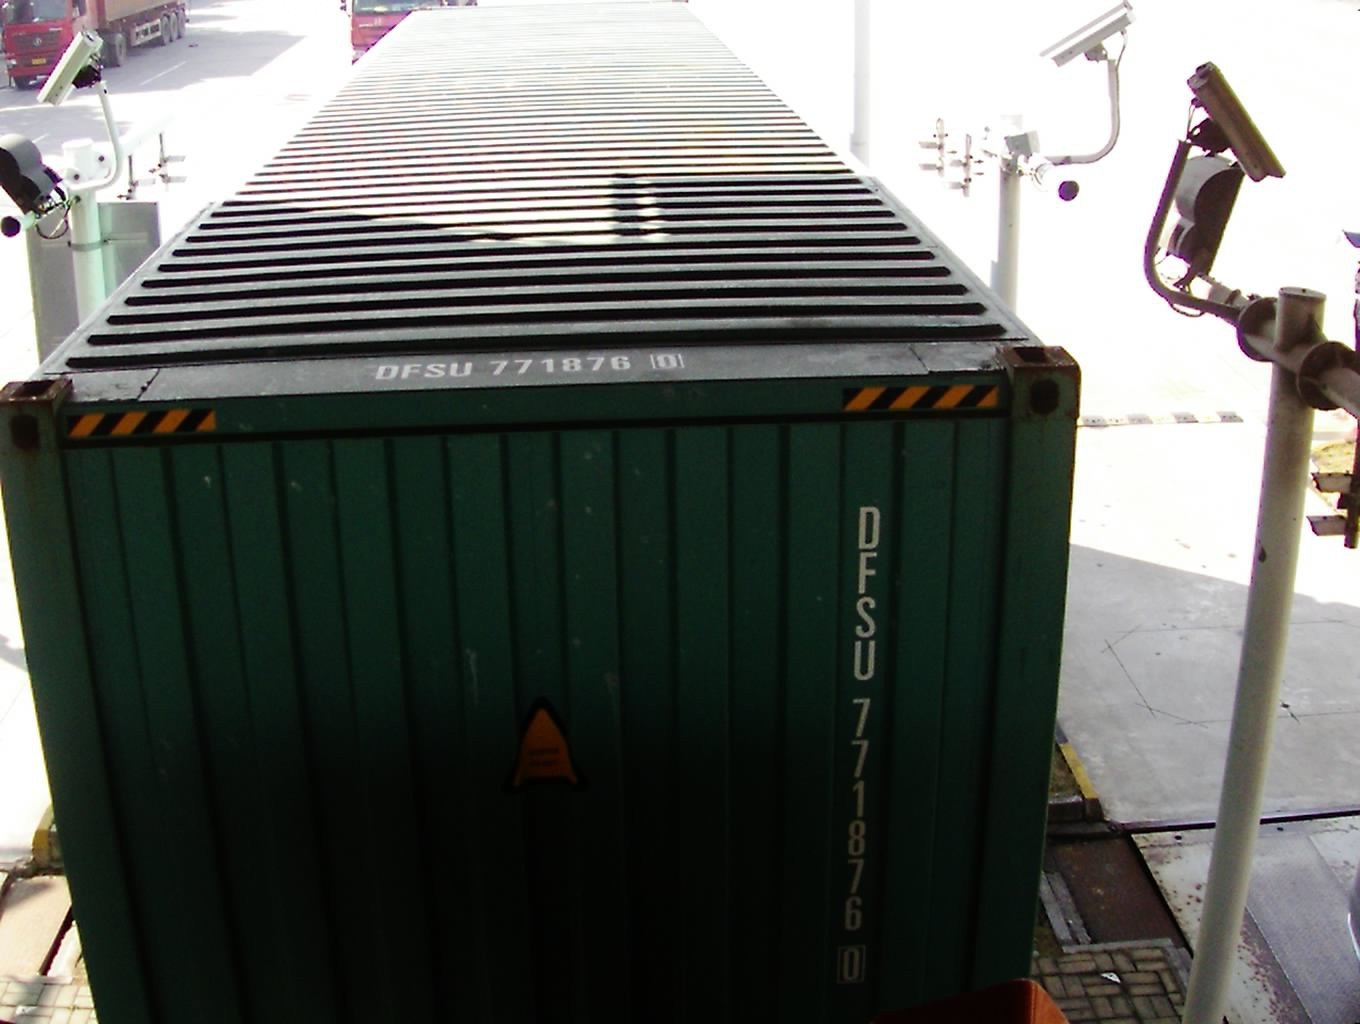words: (829, 493, 890, 993)
